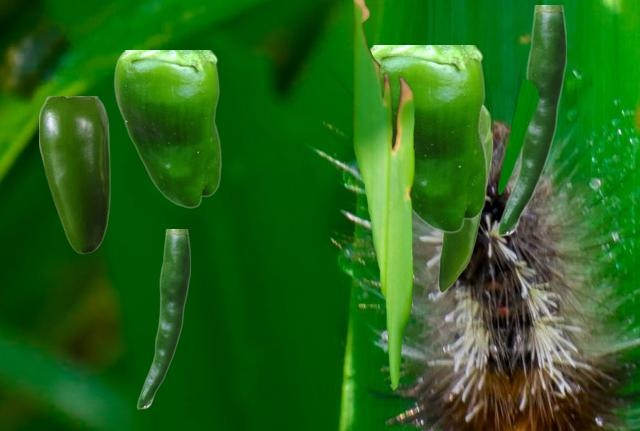green_chili: (370, 45, 486, 232), (113, 50, 220, 207), (496, 5, 565, 235), (39, 96, 109, 253), (438, 105, 491, 291), (136, 229, 189, 408)
